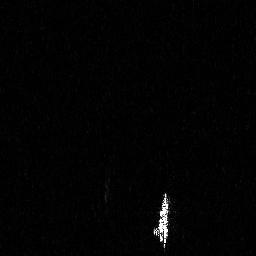ship: (150, 189, 172, 250)
